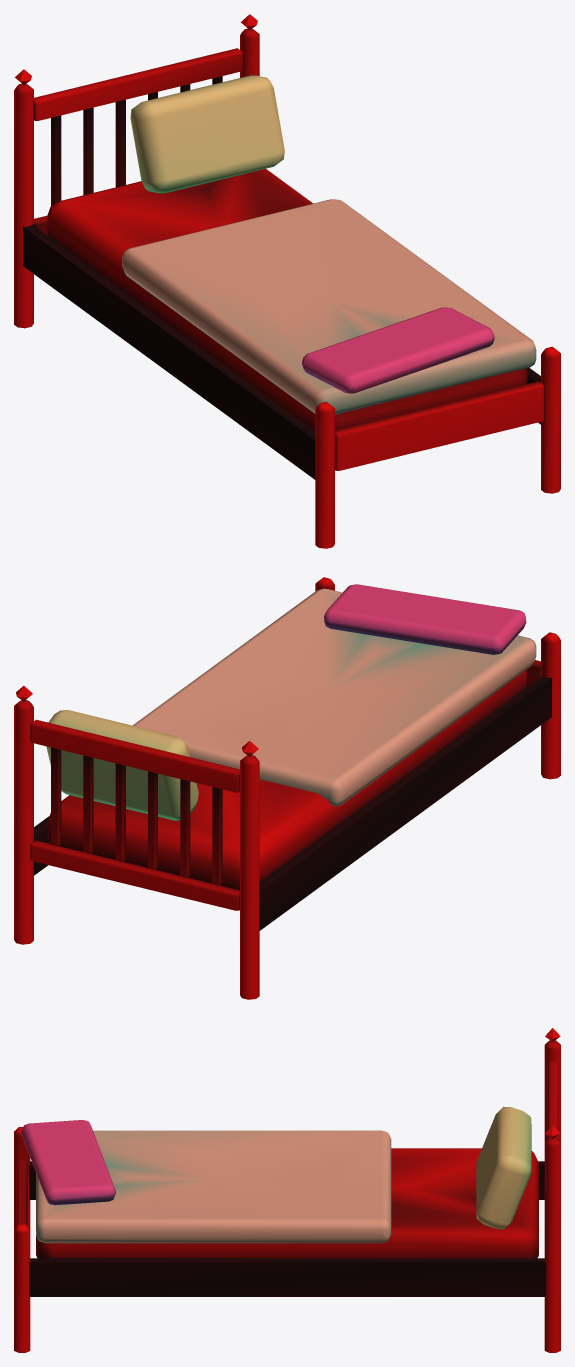
Rendered from CI_Bedroom_Bed_Single.glb.
3 renders of one model, top to bottom at view 1: azimuth 30°, elevation 25°; view 2: azimuth 150°, elevation 25°; view 3: azimuth 270°, elevation 25°, orthographic. The views are drawn at different scales.
Parts seen in each view (by area): view 1: CI_Bedroom_Bed_Single; view 2: CI_Bedroom_Bed_Single; view 3: CI_Bedroom_Bed_Single.
Boxes of the visible parts, x1,y1,x2,y2 form: CI_Bedroom_Bed_Single: (14, 14, 560, 548); CI_Bedroom_Bed_Single: (14, 577, 560, 999); CI_Bedroom_Bed_Single: (14, 1028, 560, 1352).
Bounding box in the file's own units: 0.9 × 0.905 × 2.
